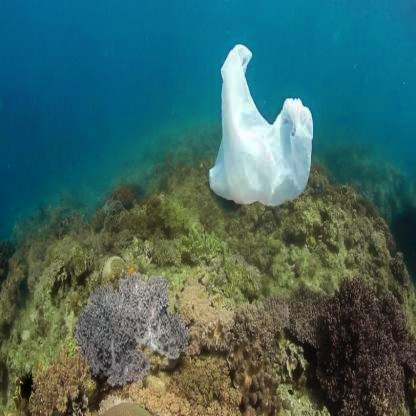pbag: (208, 43, 314, 210)
